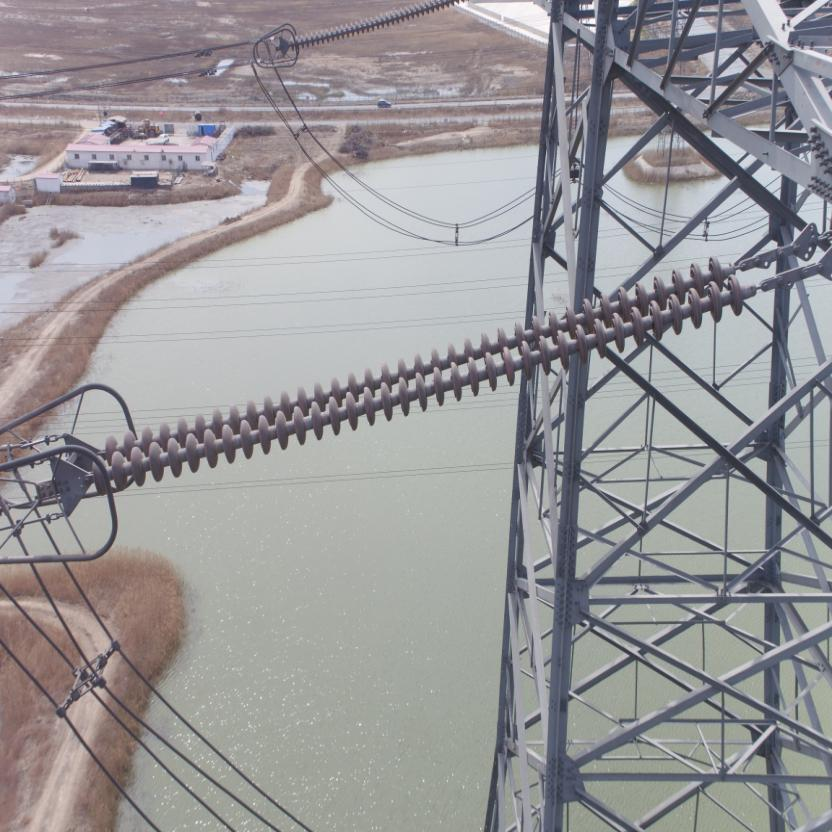insulator: (79, 250, 772, 499)
